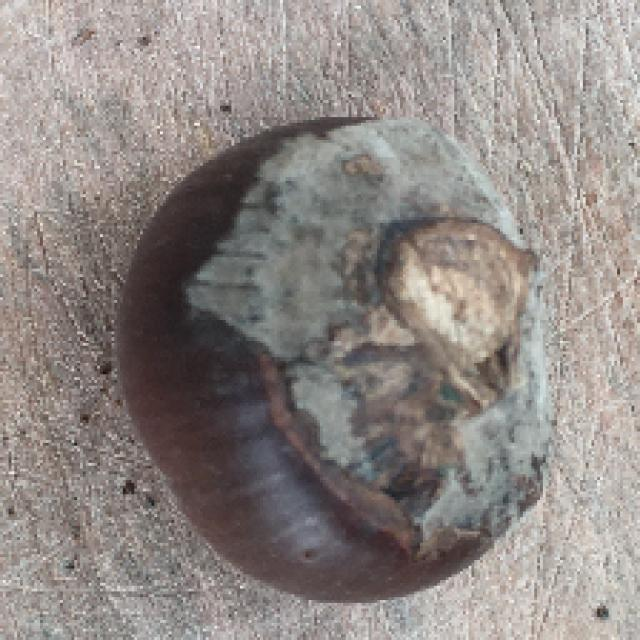damagedHazelnut: (112, 117, 553, 606)
